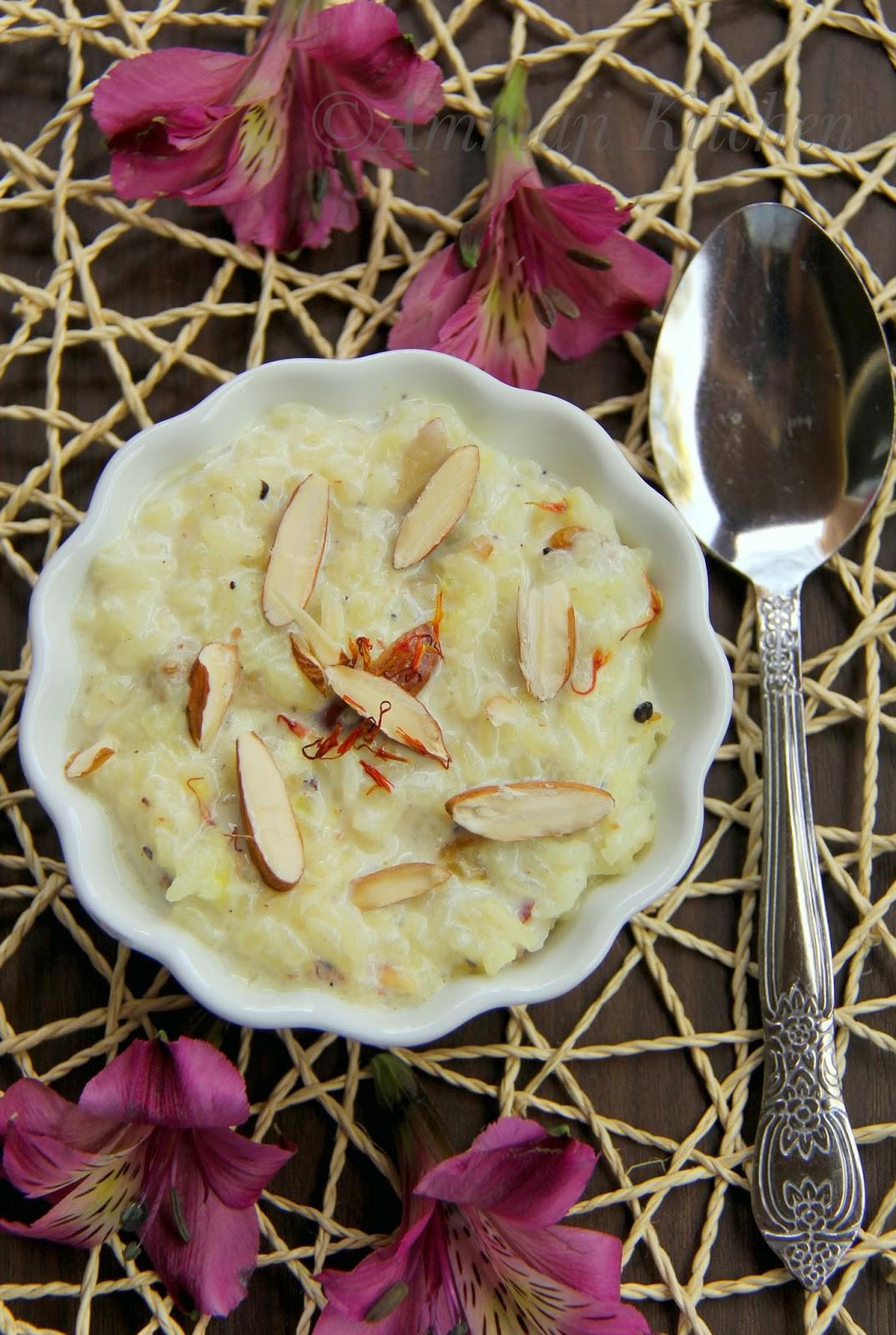Kheer: (59, 399, 664, 998)
